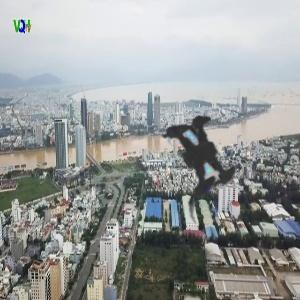drone: (104, 54, 299, 249)
